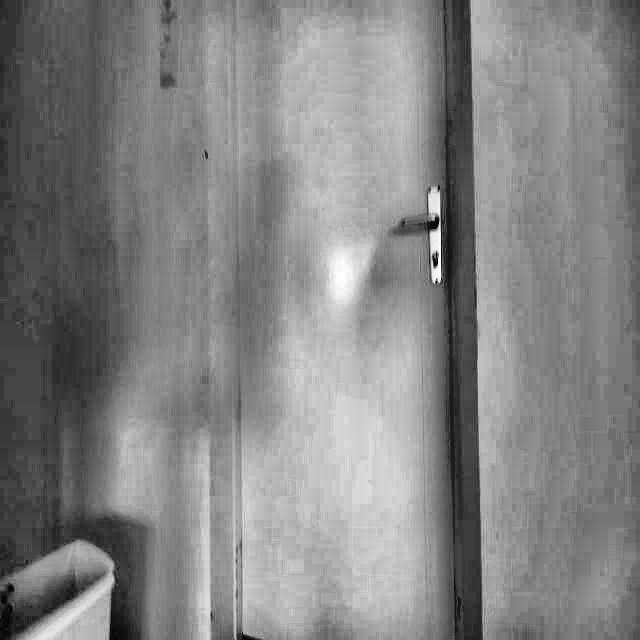ff: (125, 77, 270, 145)
